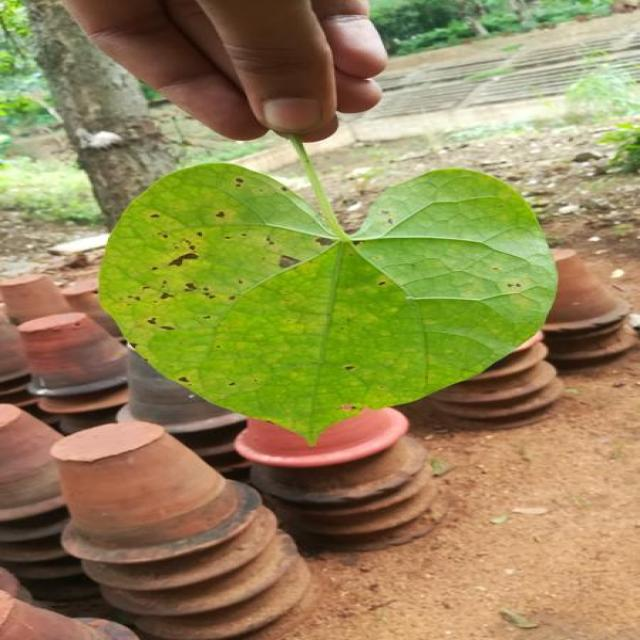Amruthaballi: (100, 144, 557, 442)
defectedAmruthaballi: (100, 164, 333, 415)
